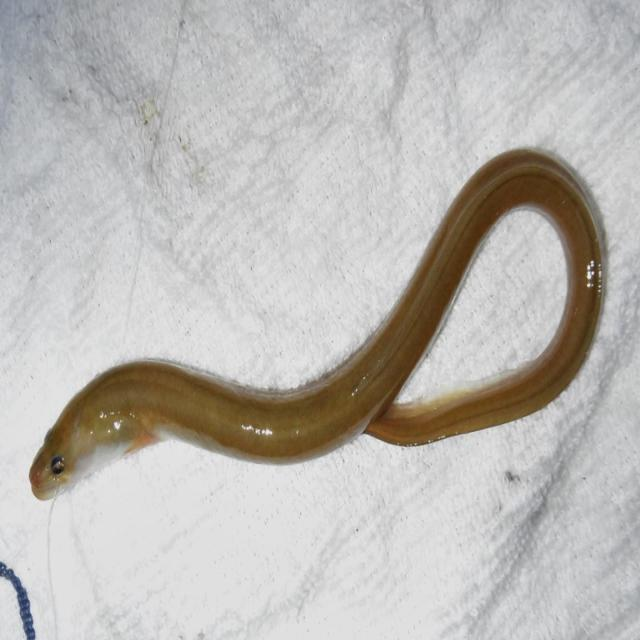Freshwater-Eel: (16, 116, 620, 583)
